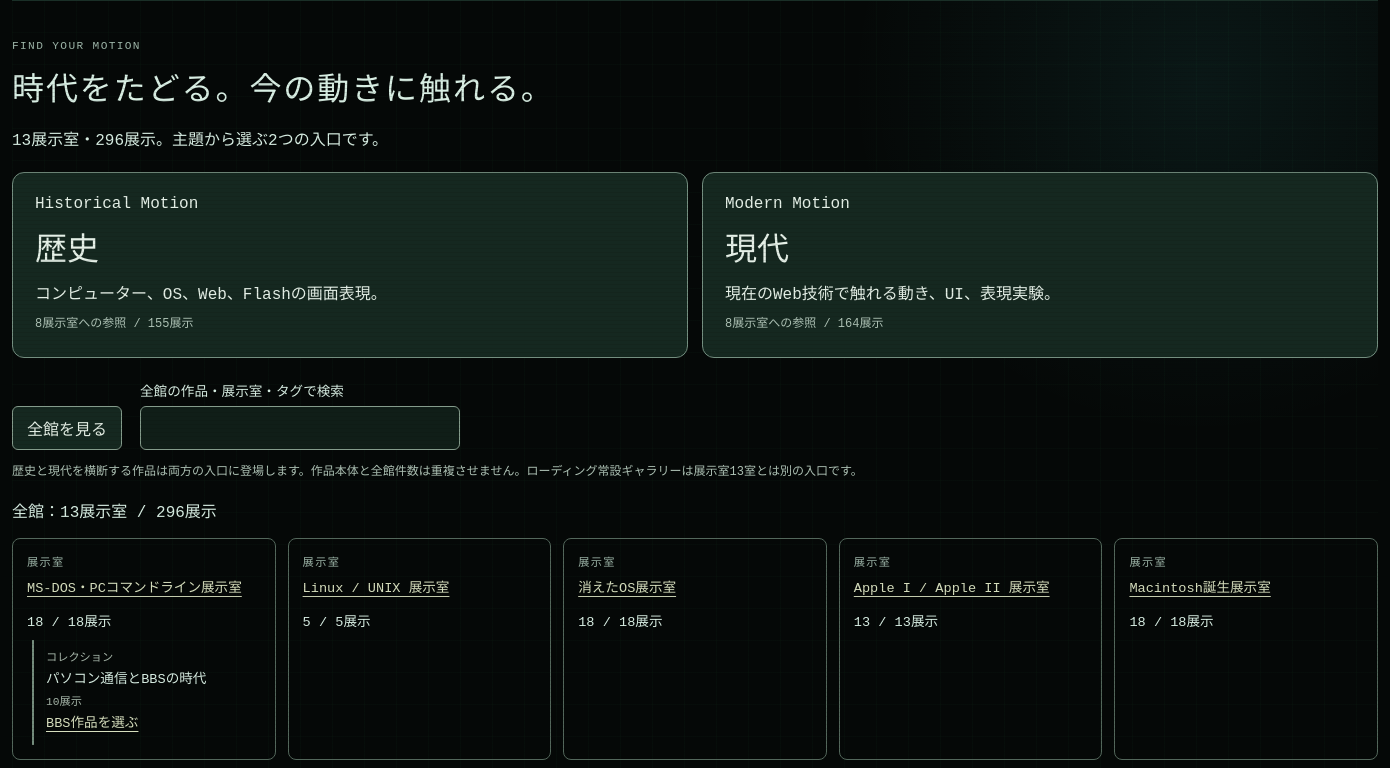
Test case: classification registry › supports category filtering, search and collection hierarchy
The width and height of the screenshot is (1390, 768).
Click the button "Modern Motion 現代 現在のWeb技術で触れる動き、UI、表現実験。 8展示室への参照 / 164展示": (787, 204) x1=702 y1=172 x2=1378 y2=358
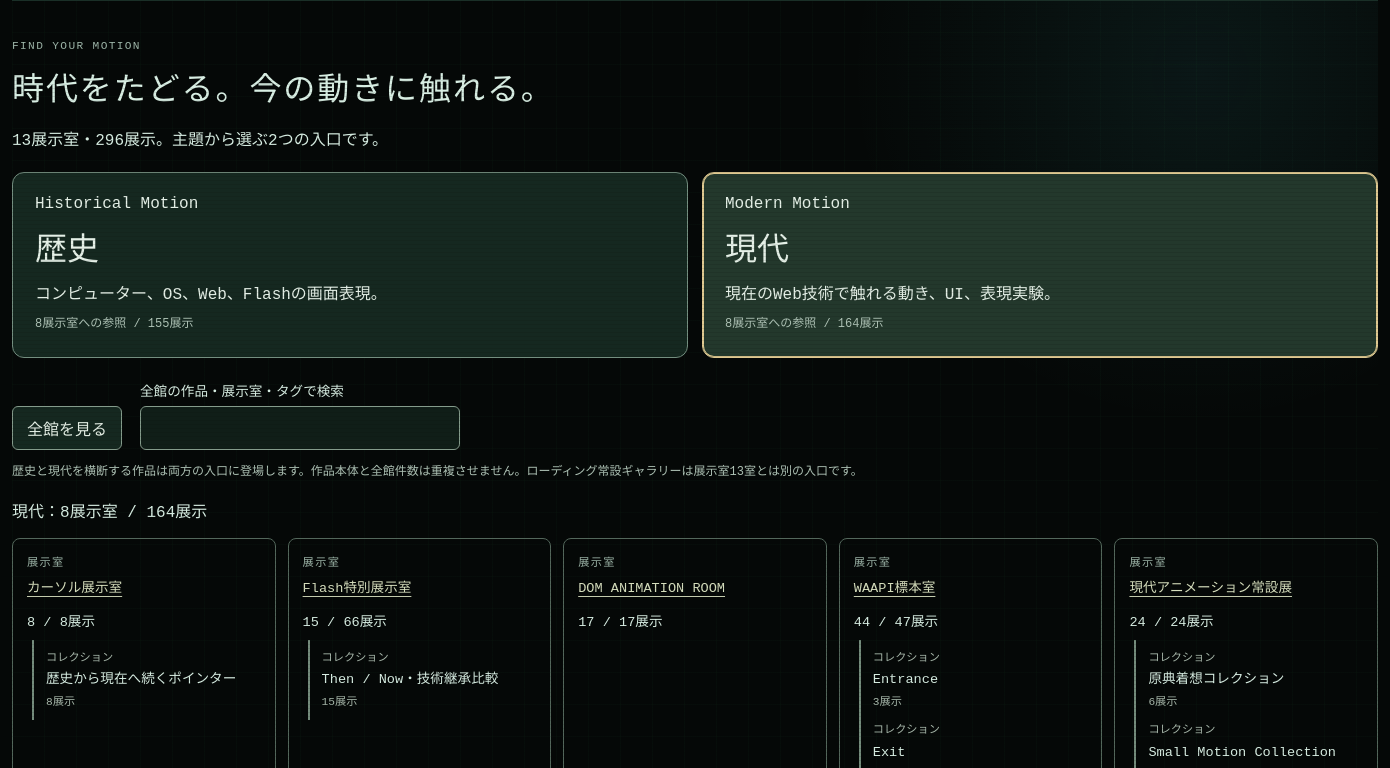
In the search field labelled "全館の作品・展示室・タグで検索": (300, 428) x1=140 y1=406 x2=460 y2=450, type "Small Motion"
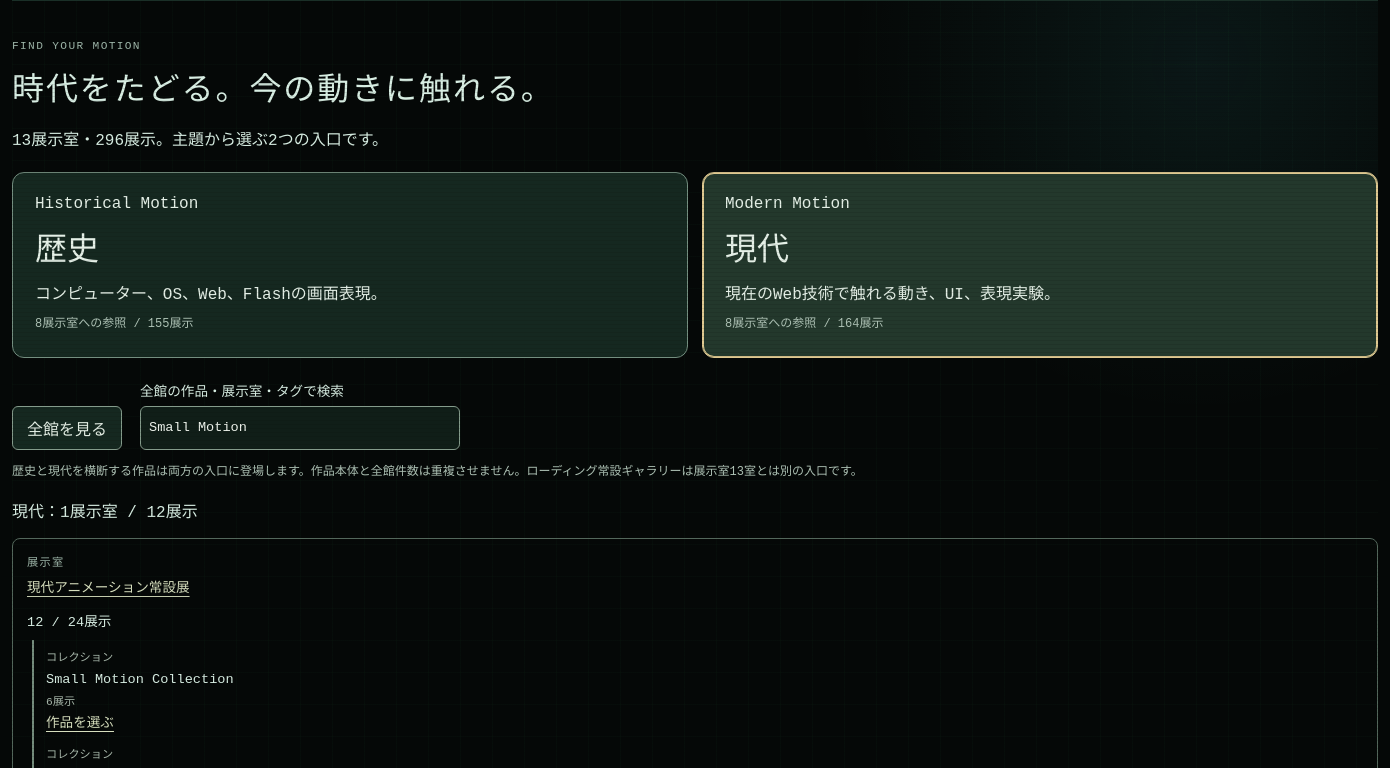
Expected: the message shows "12展示", x1=12 y1=504 x2=198 y2=522
